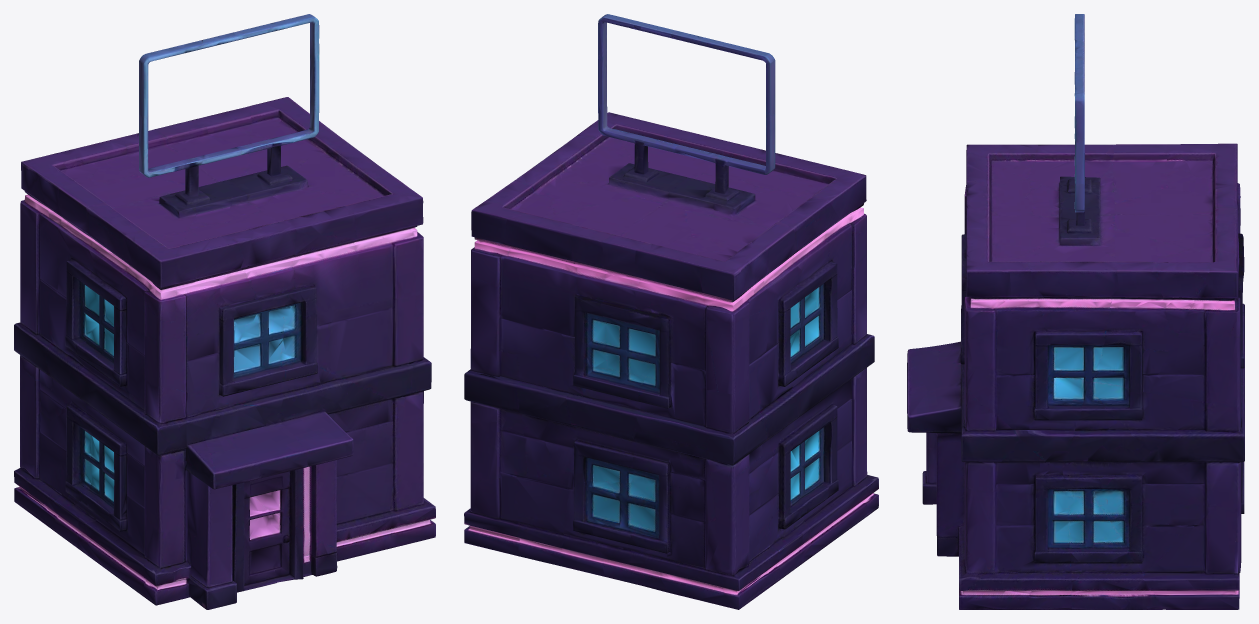
The model's file is building-b-screen-roof.glb.
The picture shows the model from 3 angles, left to right: view 1: azimuth 30°, elevation 25°; view 2: azimuth 150°, elevation 25°; view 3: azimuth 270°, elevation 25°; orthographic projection.
Visible parts, largest first — view 1: mesh_node; view 2: mesh_node; view 3: mesh_node.
Part boxes in pixels (x1,y1,x2,y2): mesh_node: [14, 14, 435, 609]; mesh_node: [464, 14, 878, 609]; mesh_node: [907, 14, 1244, 609].
Bounding box in the file's own units: 37139 × 62376 × 39264.
1 material, 1 textured.
